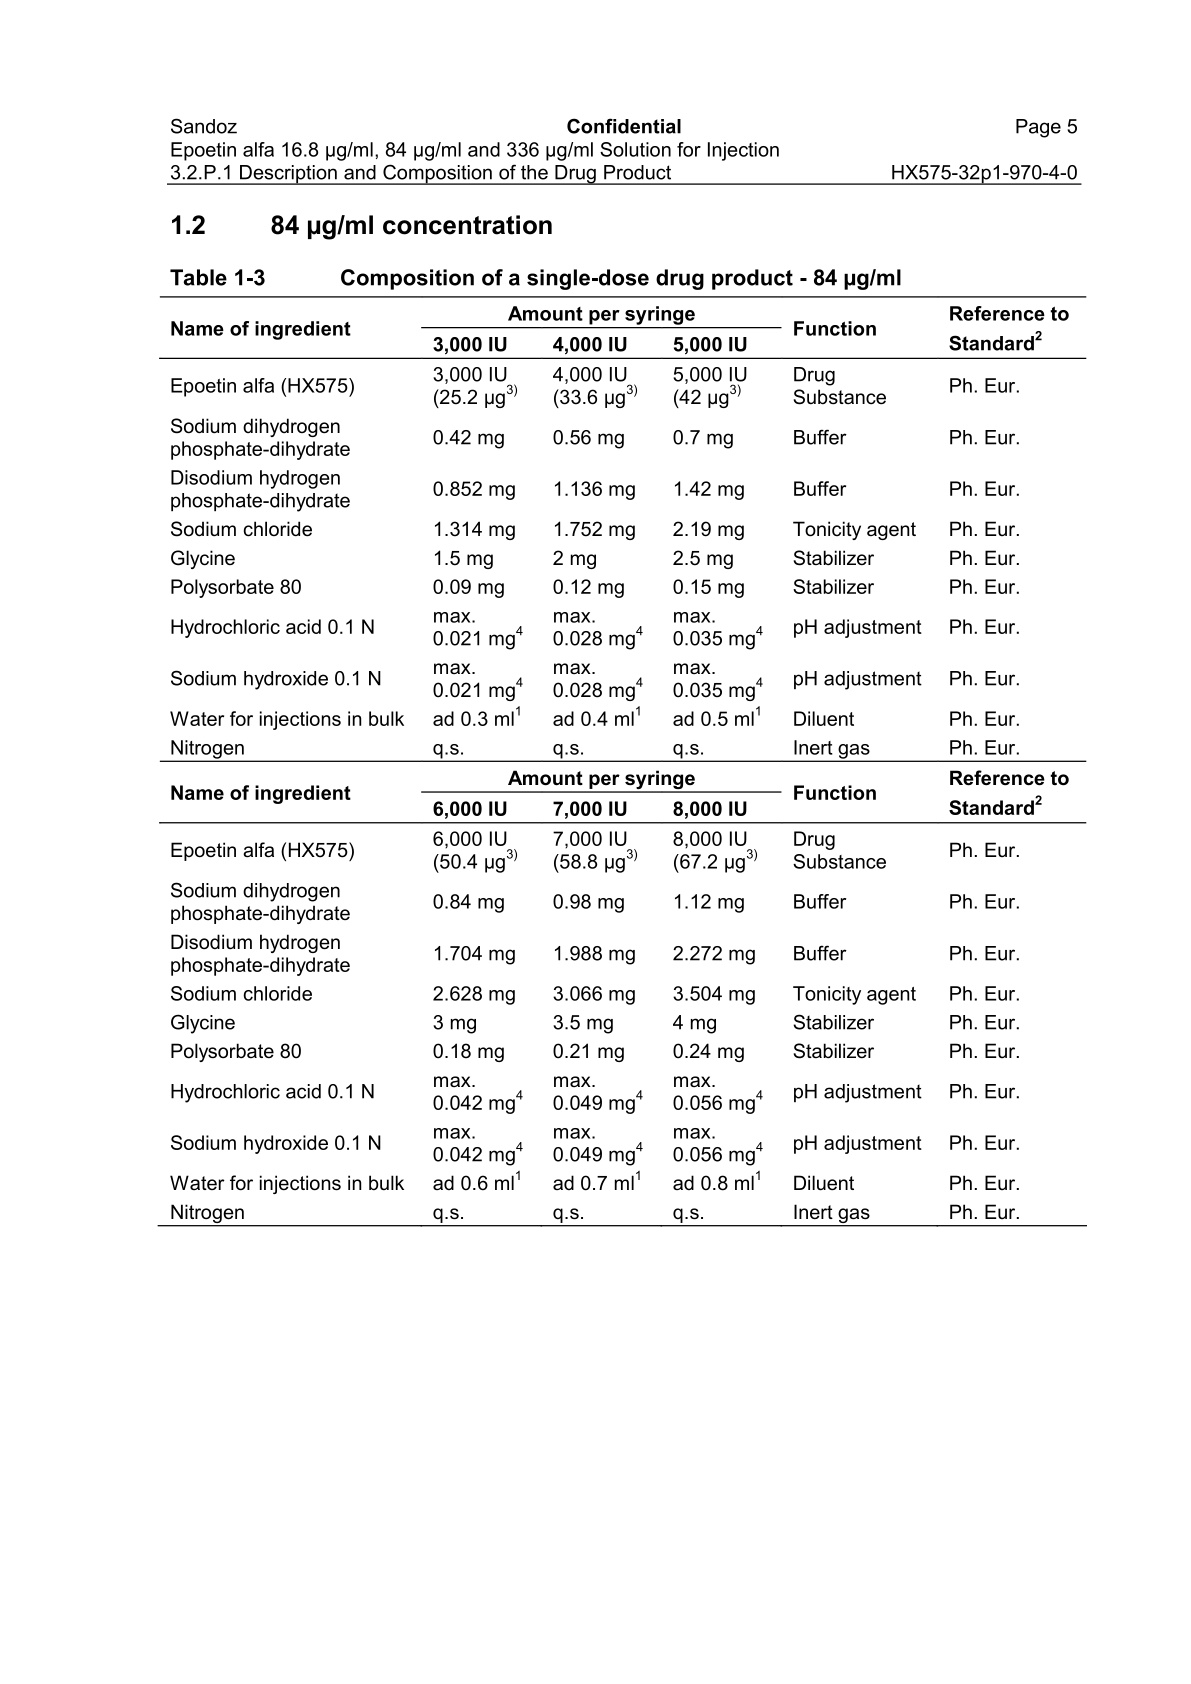partial_lined_merged_cells: (159, 295, 1087, 1227)
